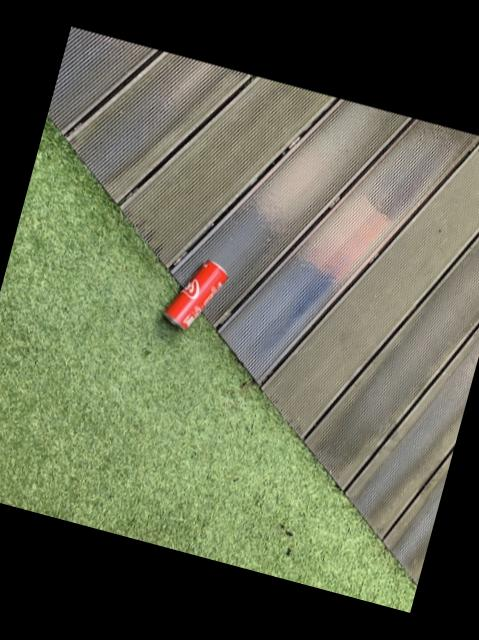metal: (164, 261, 225, 328)
